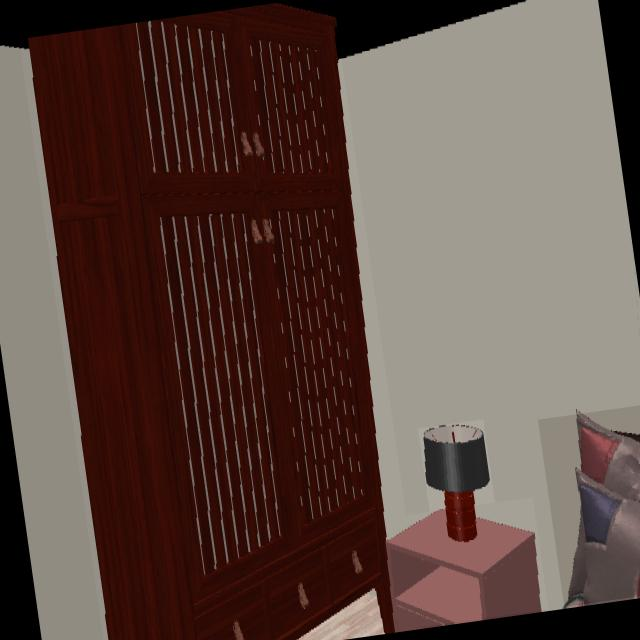lamp: (422, 424, 491, 544)
nighttable: (387, 510, 543, 631)
pillow: (565, 414, 640, 608)
wardrobe: (19, 3, 394, 640)
